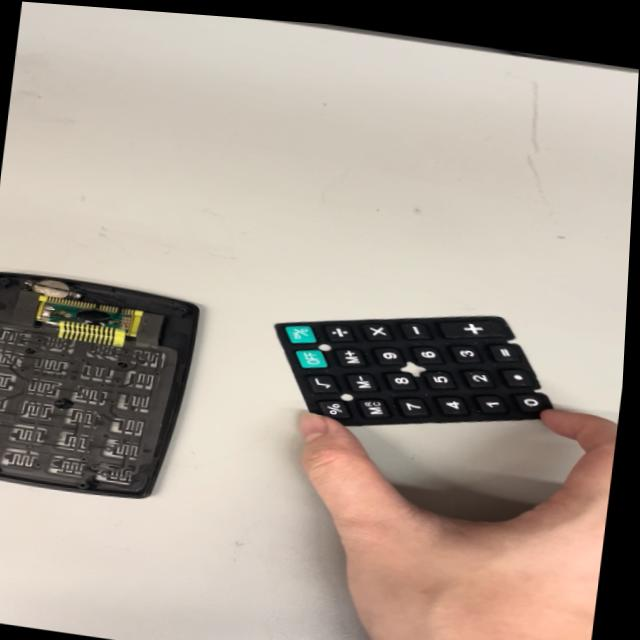front_panel: (0, 264, 234, 513)
number_pad: (257, 276, 579, 466)
